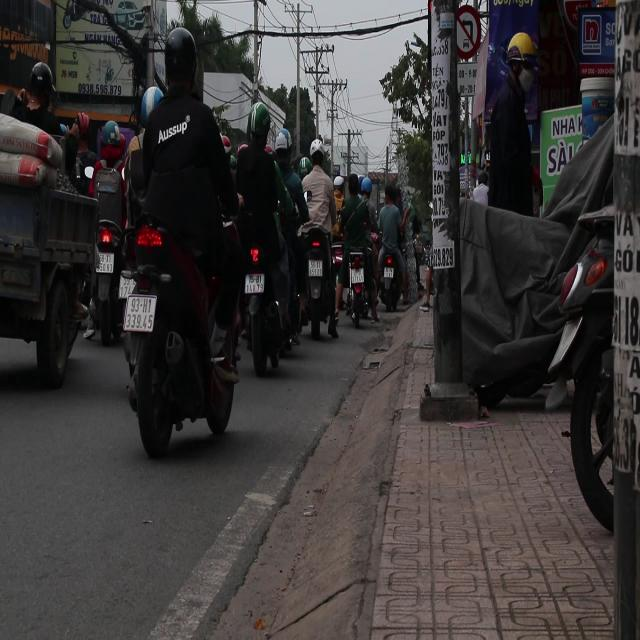motorbike: (539, 158, 639, 568), (110, 140, 234, 454), (85, 120, 137, 354), (242, 236, 288, 382), (297, 225, 341, 340), (346, 246, 372, 334), (376, 243, 406, 313)
truck: (1, 80, 100, 390)
